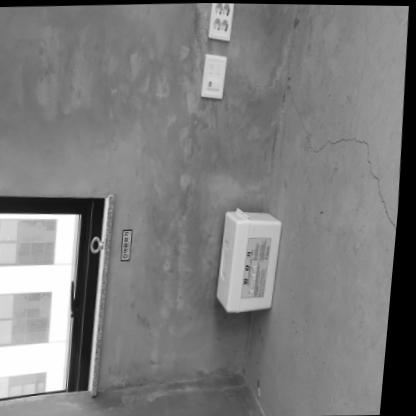DDL: (216, 205, 289, 314)
